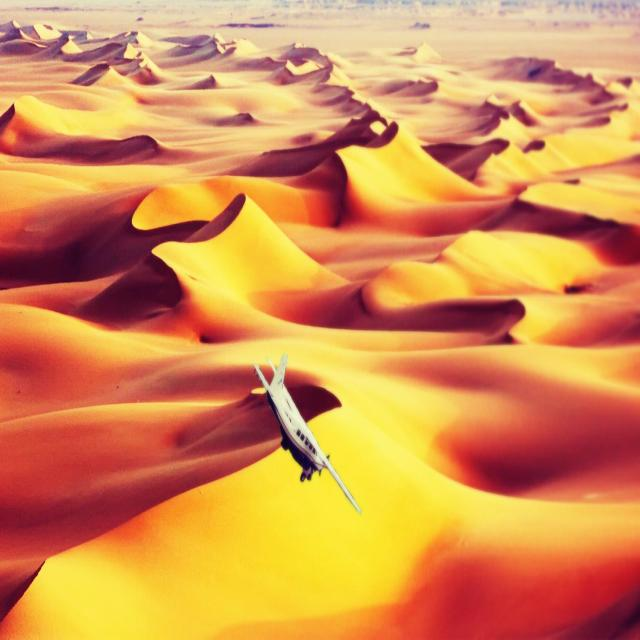airplane: (251, 353, 362, 515)
